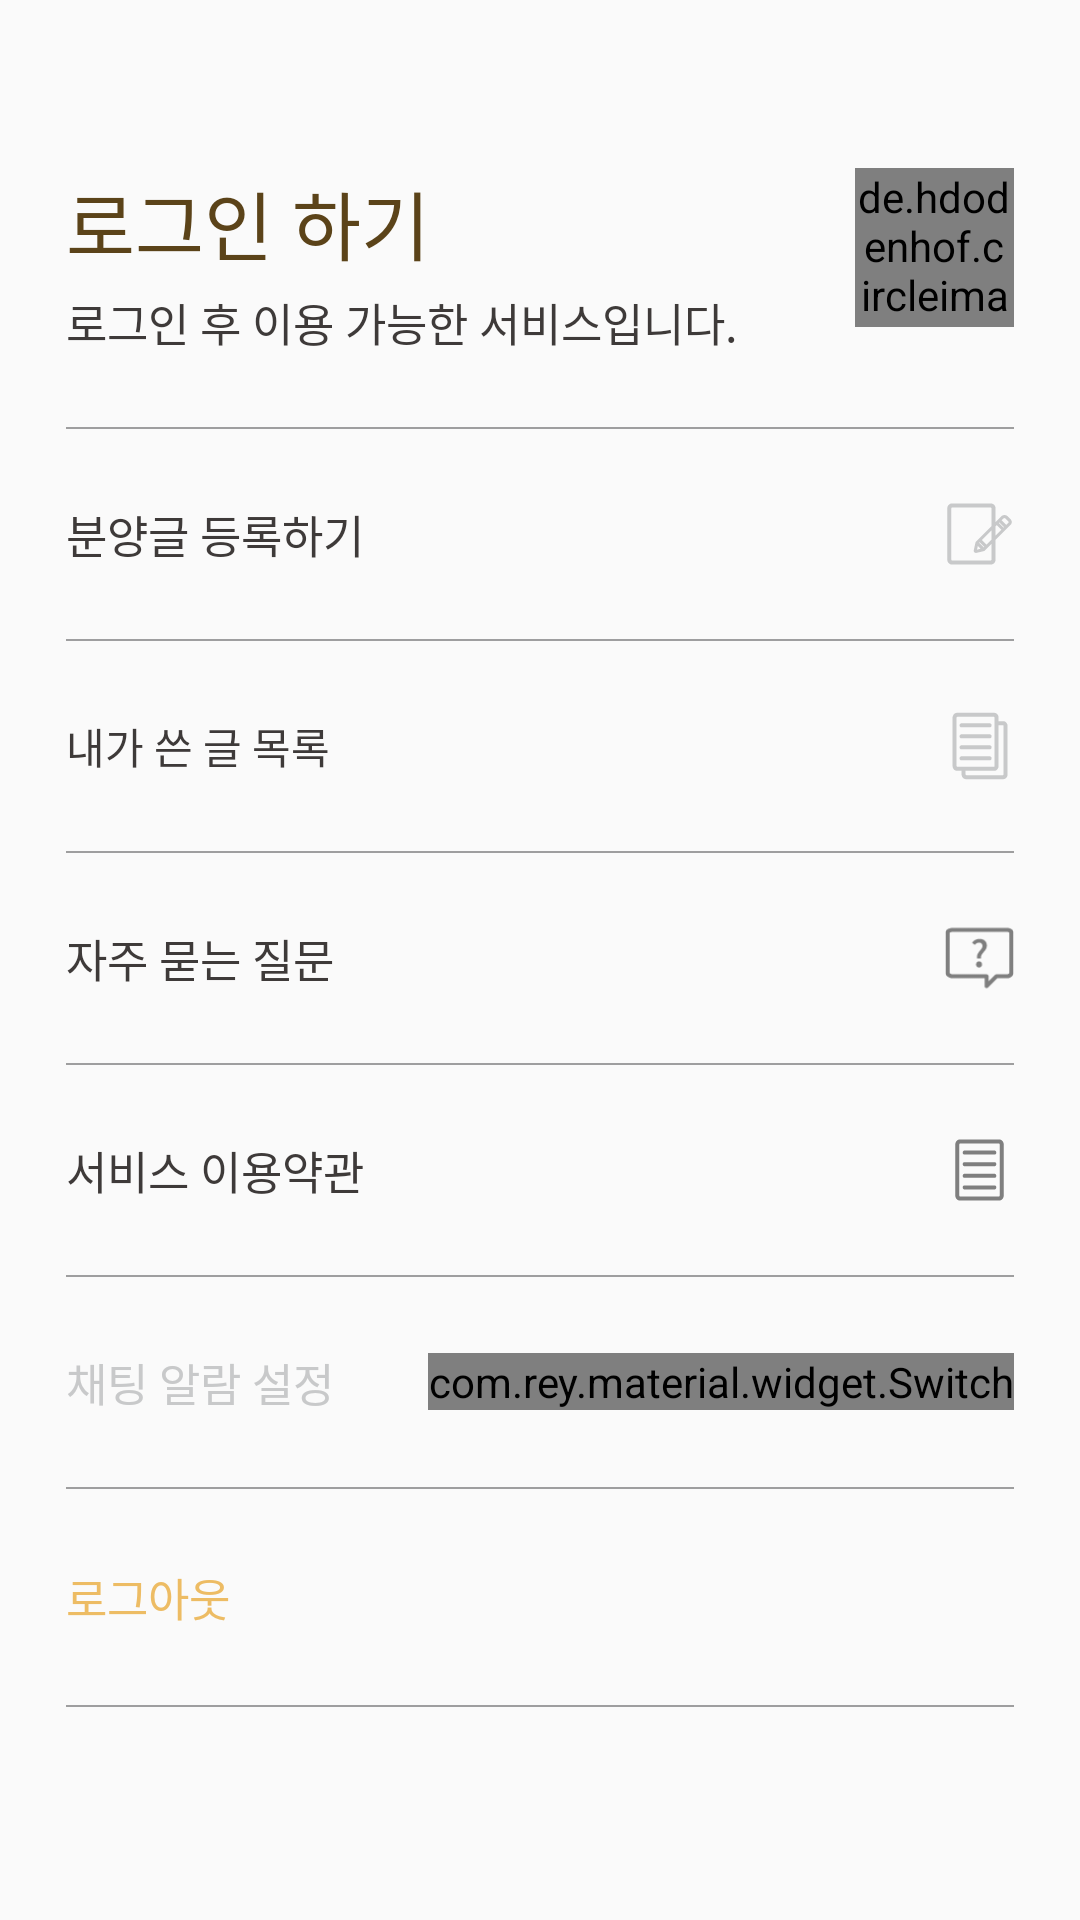

Where to tap for icons on this 1080px x 1920px app screen, as point (x, y):
agreement: point (979, 1170)
ask: point (979, 958)
regist off: point (979, 534)
